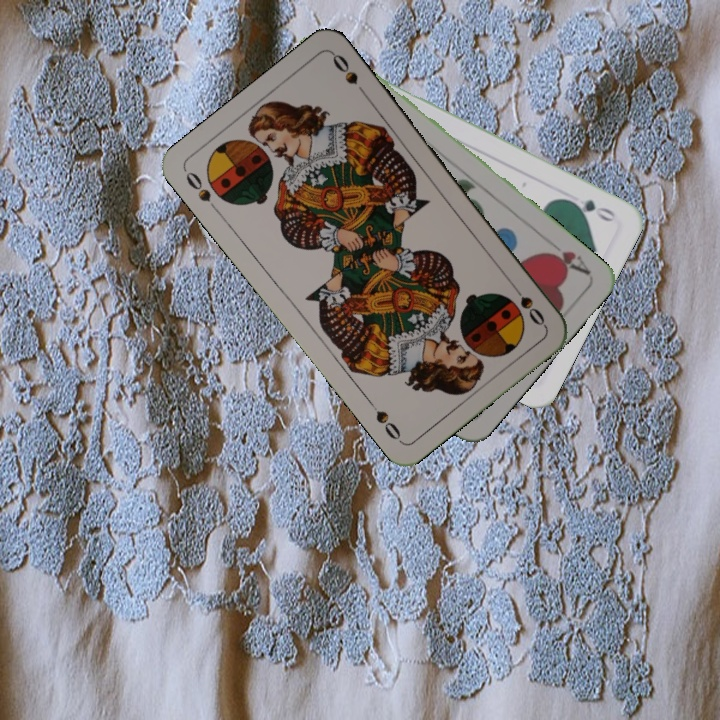GO: (562, 195, 618, 225)
HA: (539, 246, 593, 278)
SO: (507, 278, 548, 329), (181, 167, 223, 216)
